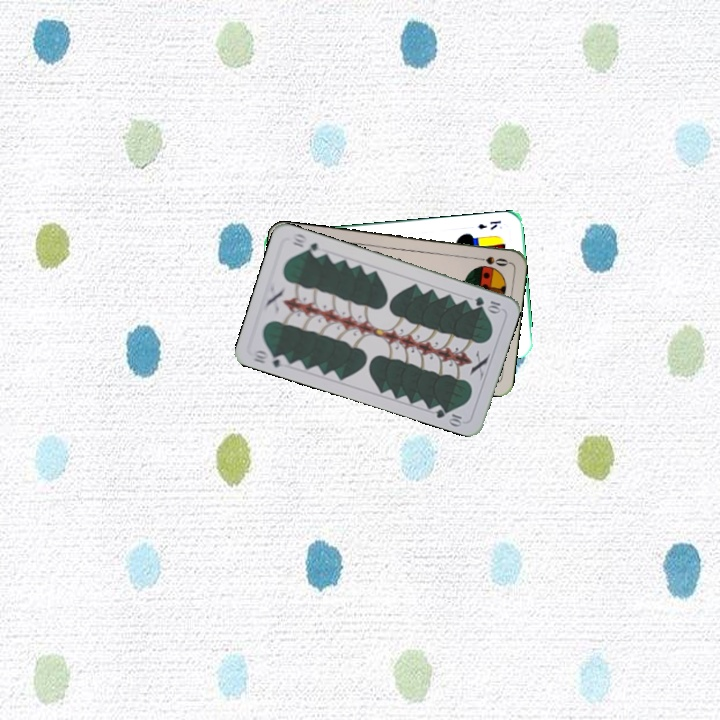EK: (474, 216, 504, 232)
G10: (249, 346, 290, 370), (471, 292, 504, 315)
SO: (470, 252, 511, 269)
